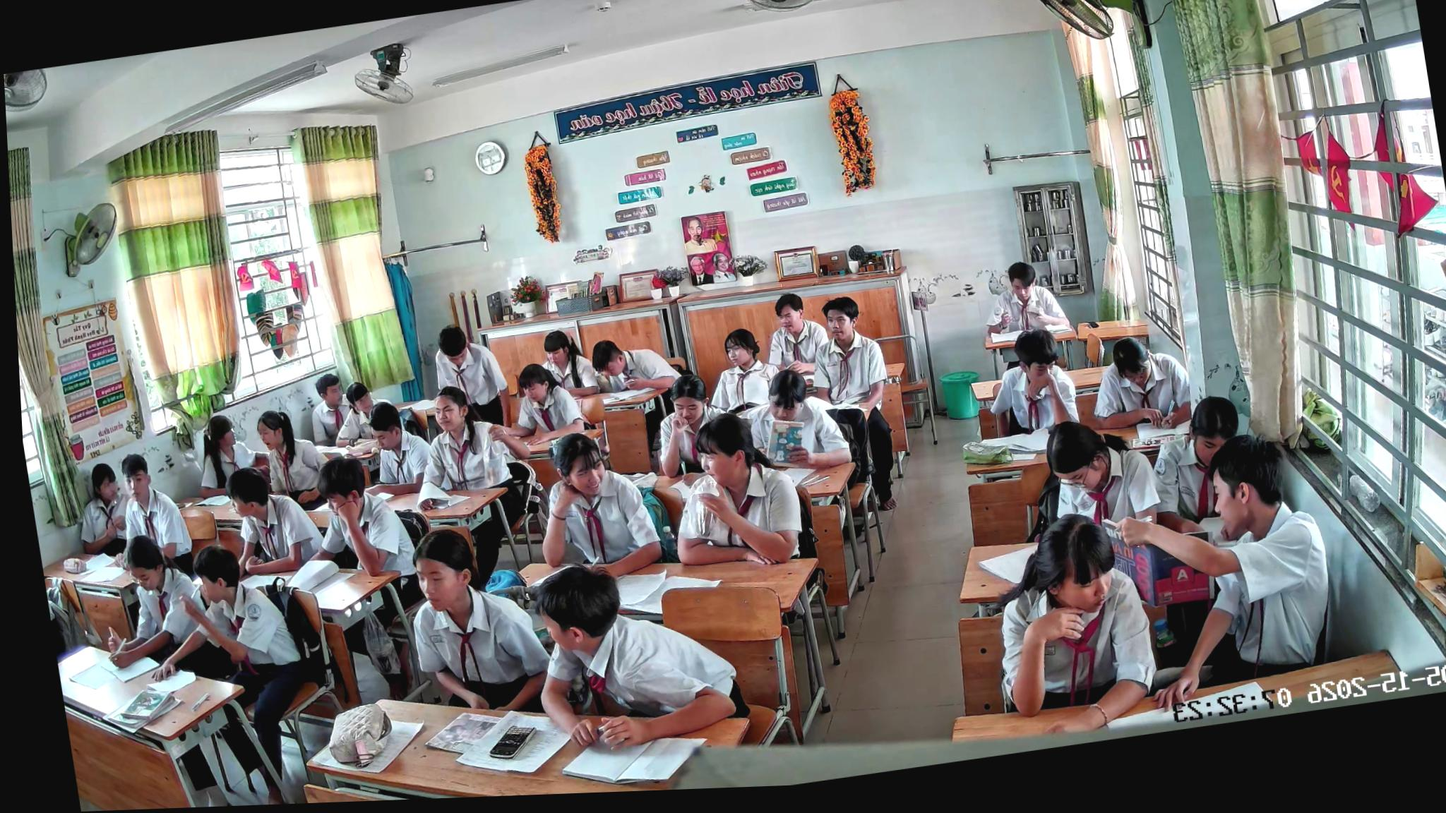person: (1097, 423, 1350, 716), (520, 542, 752, 759), (974, 506, 1168, 745), (90, 525, 246, 811), (167, 533, 327, 808), (287, 445, 438, 711), (397, 516, 562, 730), (399, 374, 554, 596), (655, 402, 811, 579), (798, 291, 909, 520), (524, 423, 666, 589), (1033, 408, 1166, 544), (1140, 393, 1256, 540), (587, 328, 698, 461), (1079, 327, 1201, 440), (221, 458, 328, 581), (741, 365, 853, 478), (976, 324, 1083, 440), (106, 447, 196, 584), (429, 317, 514, 434), (346, 396, 439, 502), (252, 401, 336, 518), (645, 369, 733, 480), (499, 355, 594, 450), (695, 323, 786, 421), (976, 256, 1073, 344), (188, 408, 273, 500), (66, 460, 137, 560), (756, 288, 834, 379), (325, 377, 396, 448), (538, 325, 601, 402), (304, 371, 358, 450)
